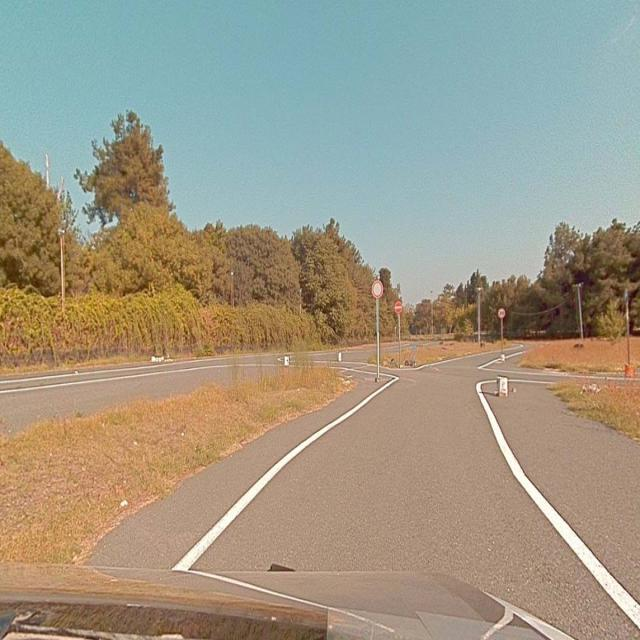girisyok: (394, 302, 402, 314)
